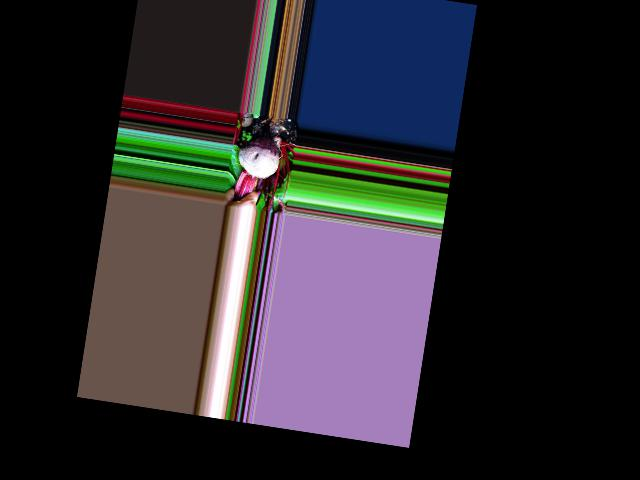beet: (231, 112, 286, 207)
